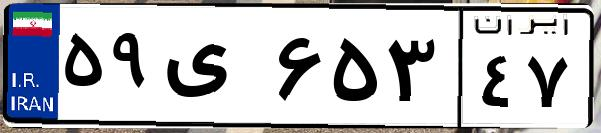3: (385, 28, 445, 110)
4: (475, 38, 525, 113)
5: (330, 28, 385, 110), (57, 26, 110, 100)
6: (270, 28, 330, 110)
7: (525, 38, 570, 115)
9: (110, 28, 158, 98)
ی: (158, 20, 270, 120)
